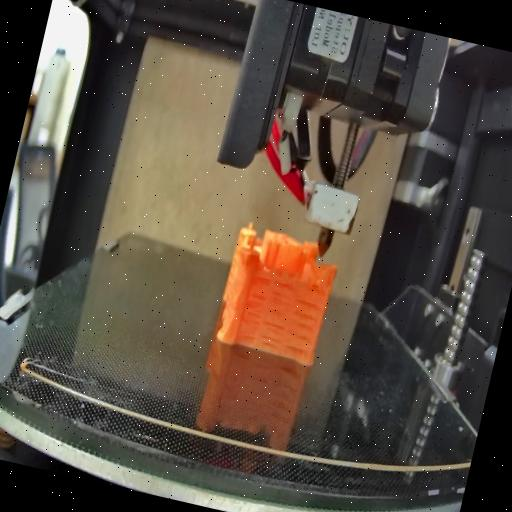cracks: (284, 298, 322, 356), (238, 290, 266, 340), (264, 275, 294, 315), (256, 318, 284, 350), (250, 272, 272, 284)
